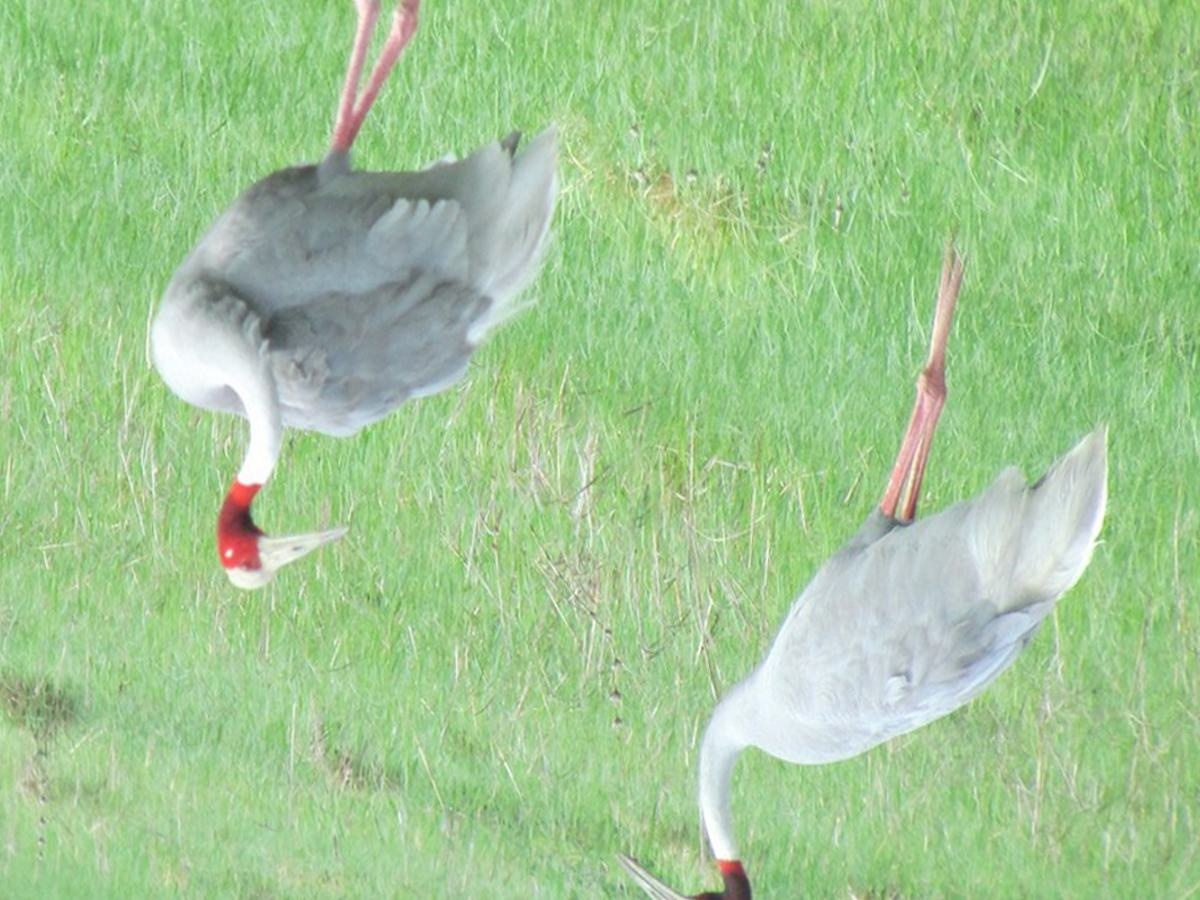crane: (617, 313, 1187, 900), (143, 1, 576, 640)
